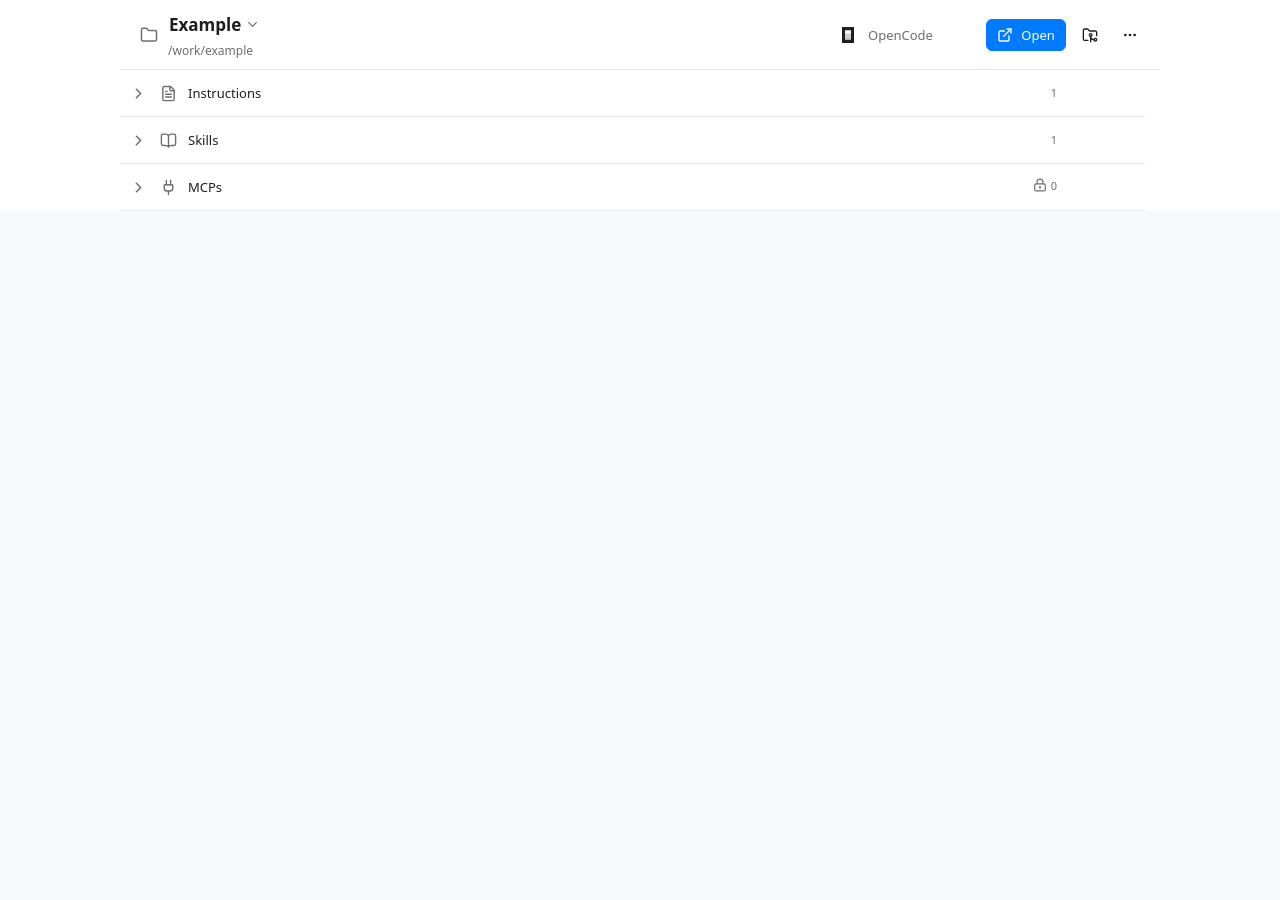
Test: ProjectsWorkspace › keeps a failed Project Skill add actionable inside its dialog
This screenshot has width=1280, height=900.
Click the button with aria-label "Expand Skills": (203, 140) [120, 117, 1067, 163]
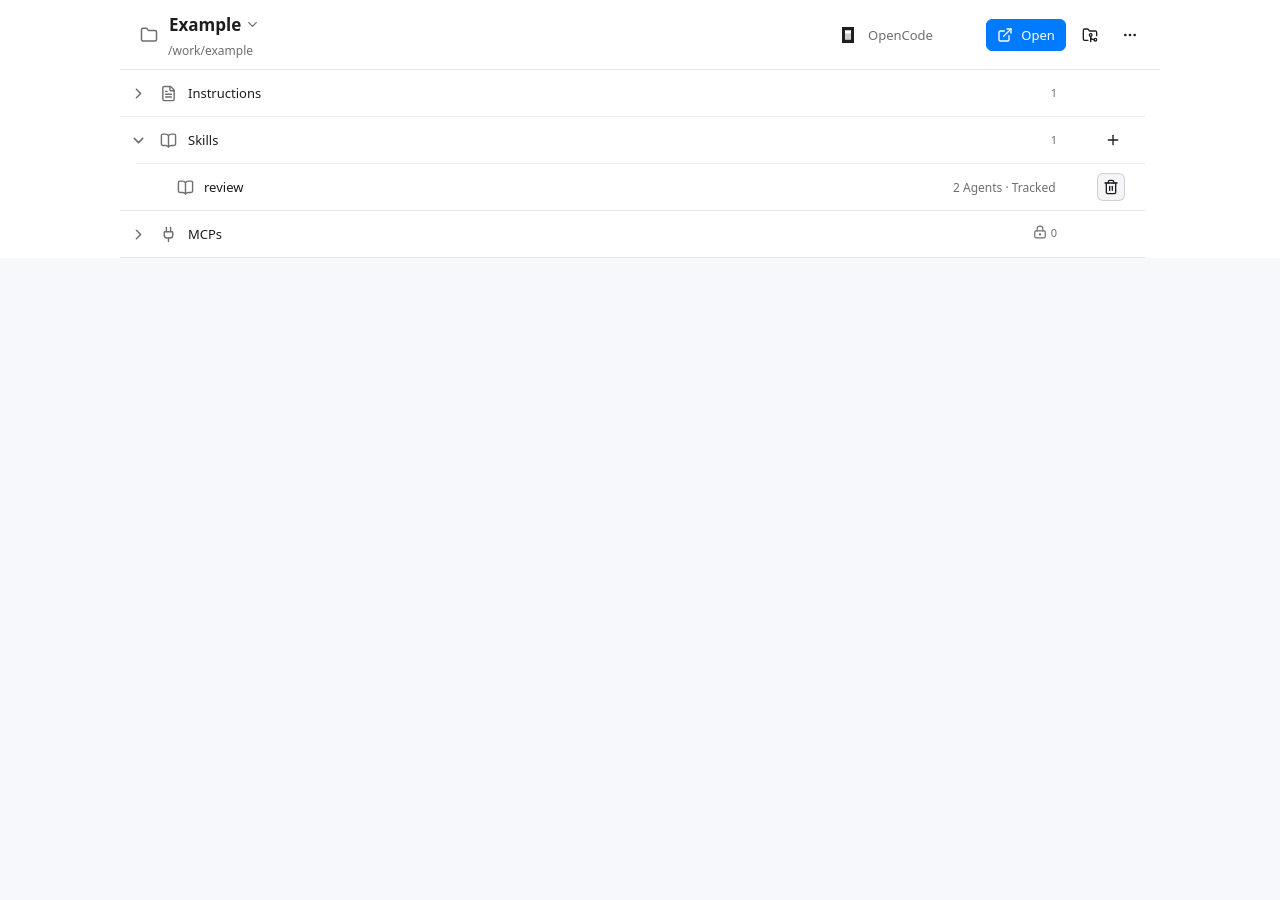
Click the button named "Add Skills": (1113, 140) [1099, 126, 1127, 154]
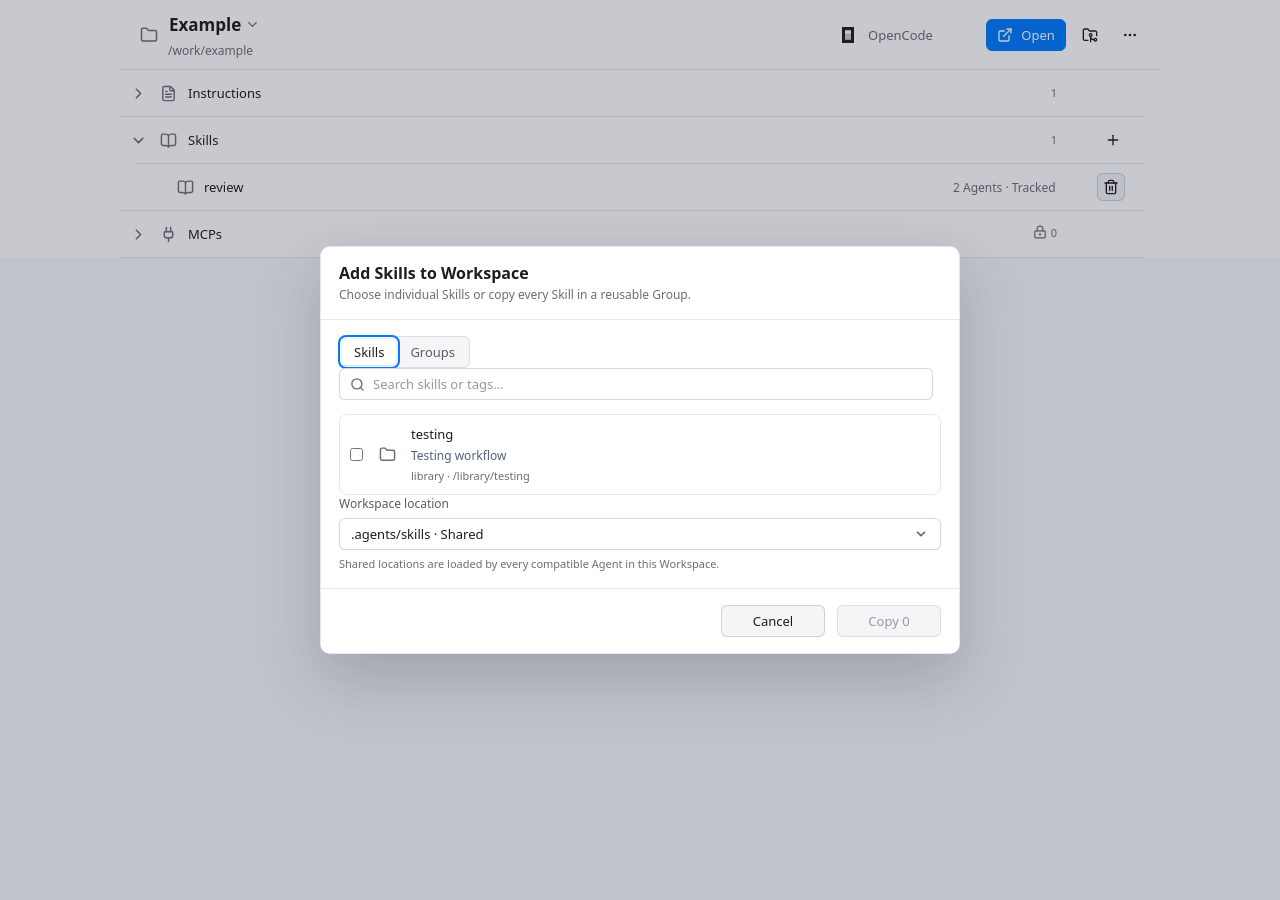
Click the checkbox labelled "testing": (356, 454) [350, 448, 363, 461]
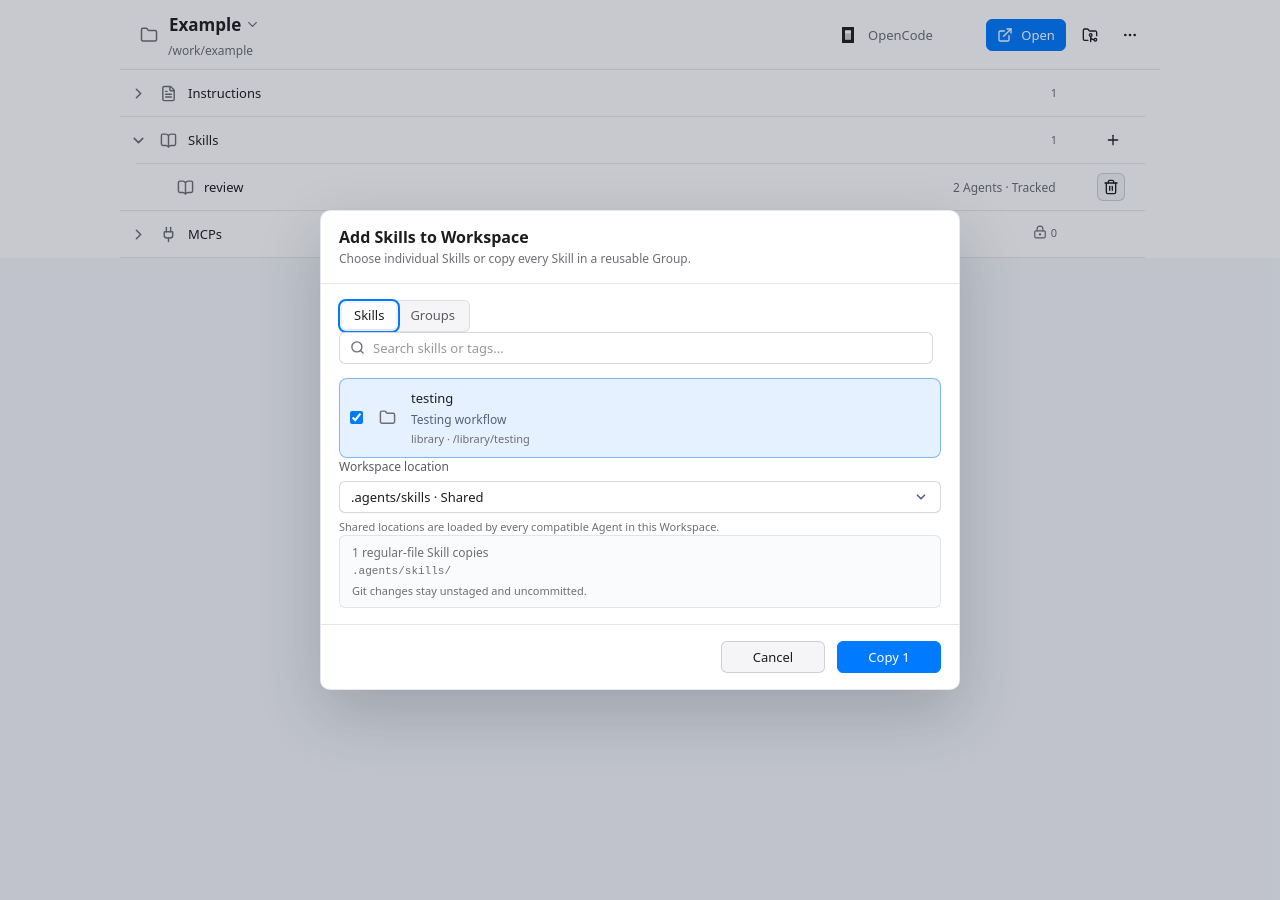
Click the button "Copy 1": (889, 657) [837, 641, 941, 673]
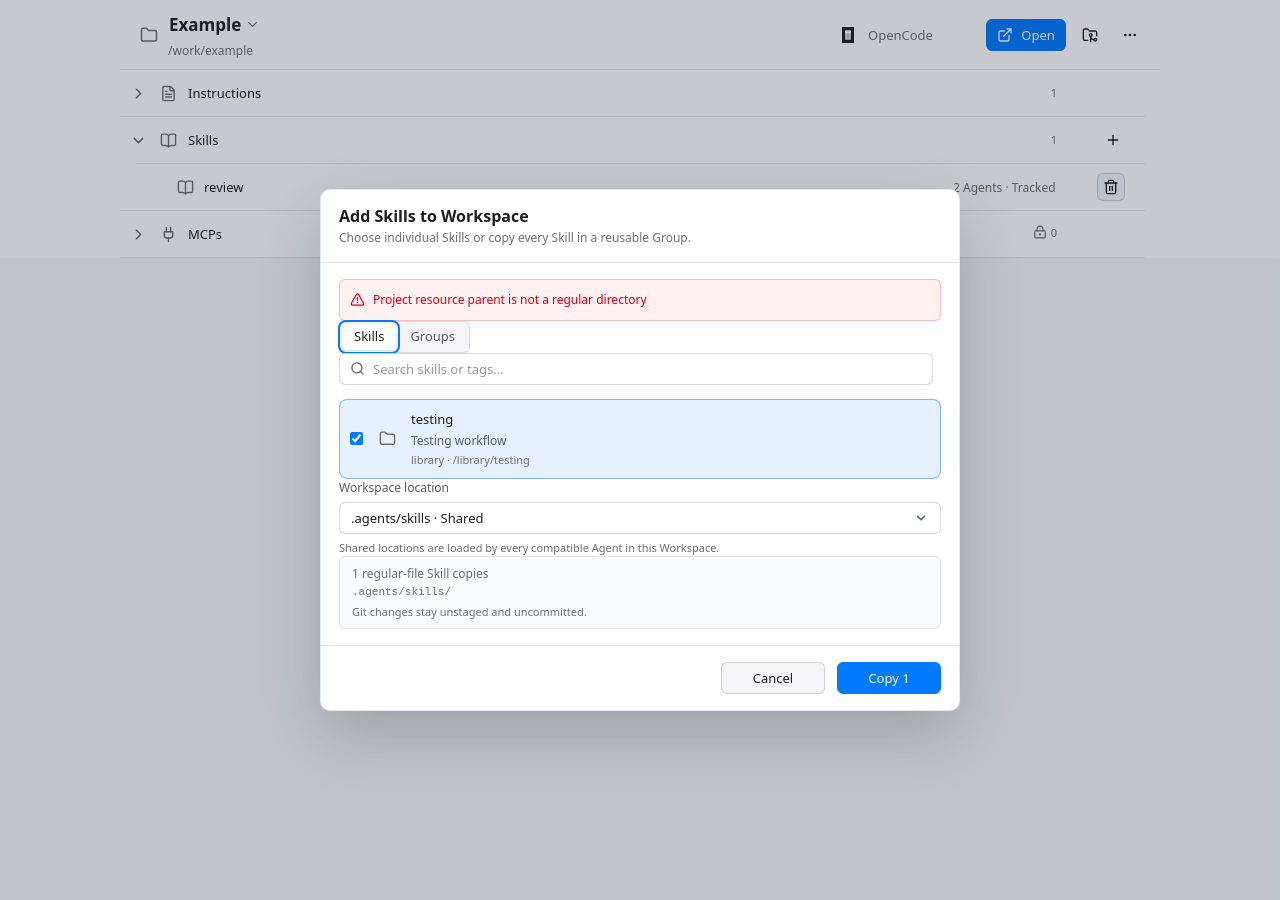
Now the dialog "Add Skills to Workspace" is shown, box [320, 189, 960, 711]
Now the message reads "Project resource parent is not a regular directory", box [373, 291, 647, 308]
